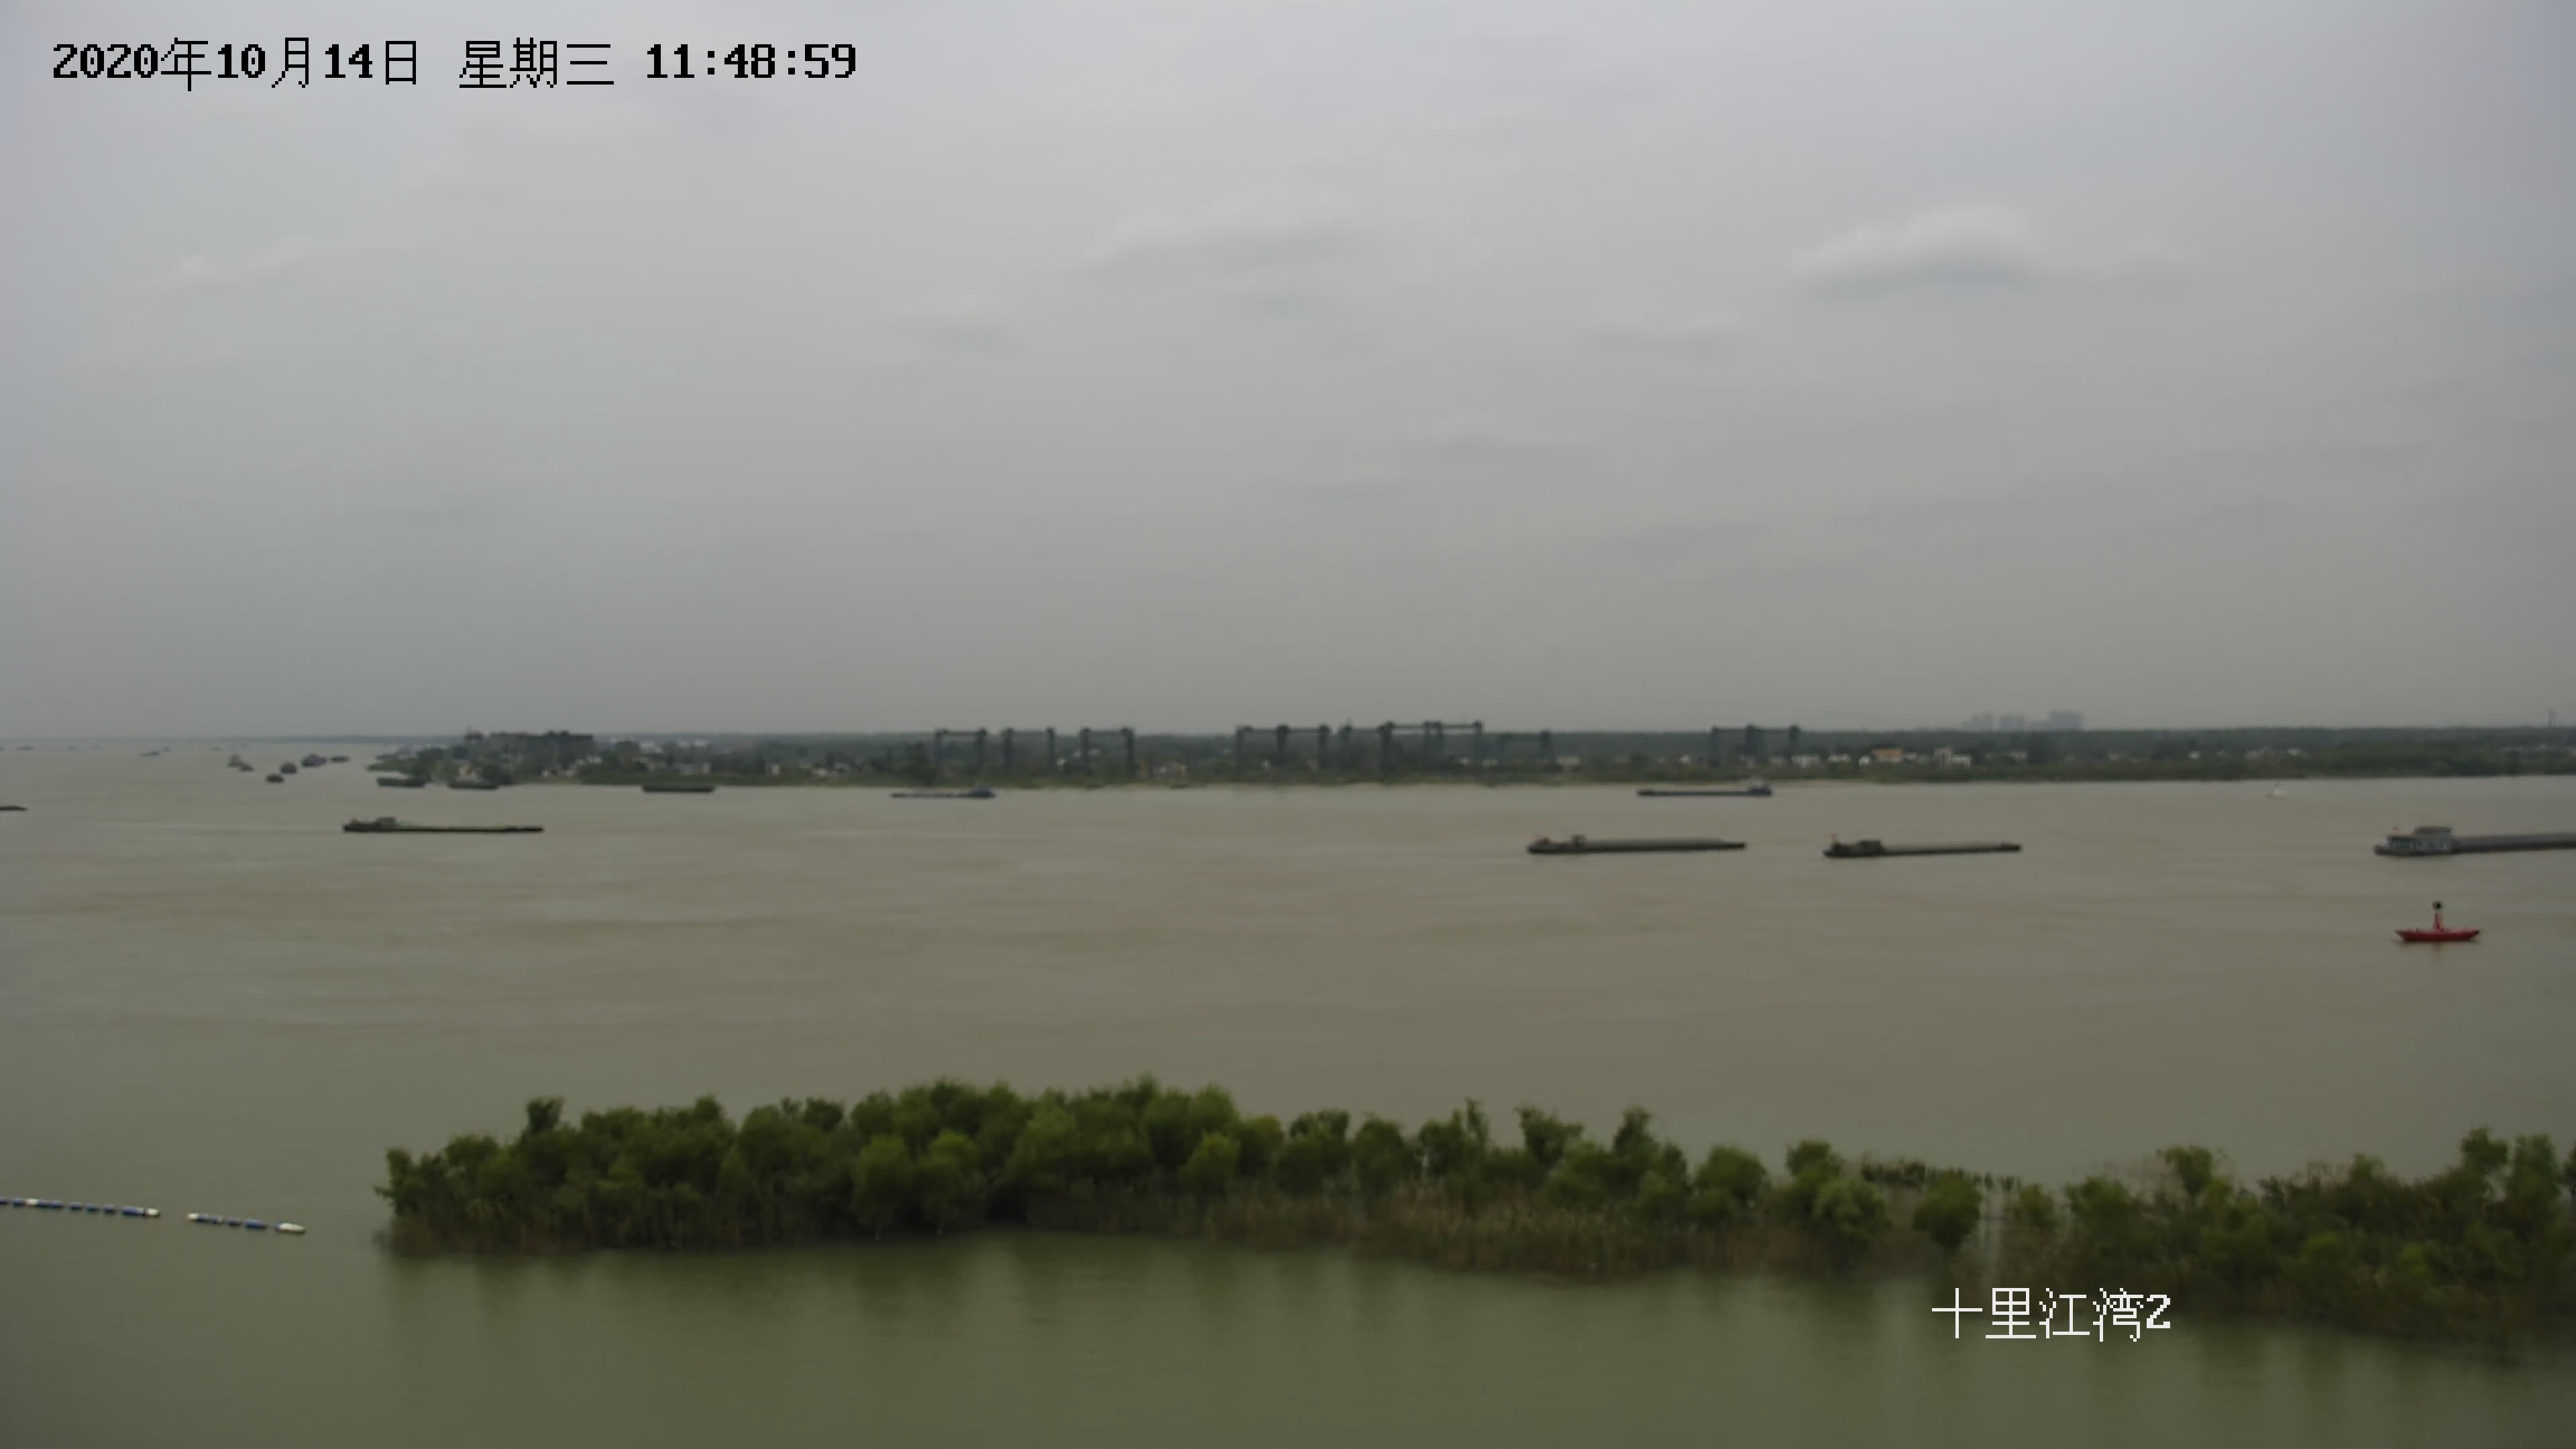boat: (2367, 821, 2572, 863), (1516, 828, 1762, 863), (1819, 830, 2026, 863), (341, 814, 548, 835), (1629, 777, 1773, 801), (639, 775, 724, 796), (888, 786, 1001, 801), (442, 775, 508, 791), (373, 775, 428, 791)
